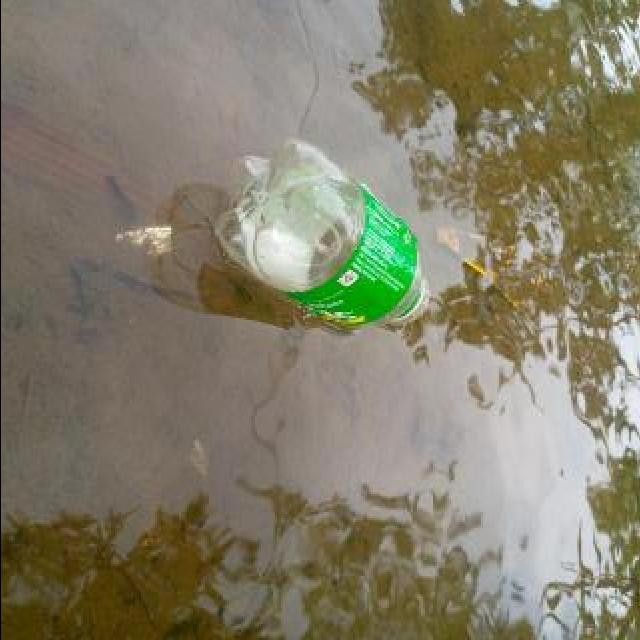Bottle: (202, 128, 440, 340)
